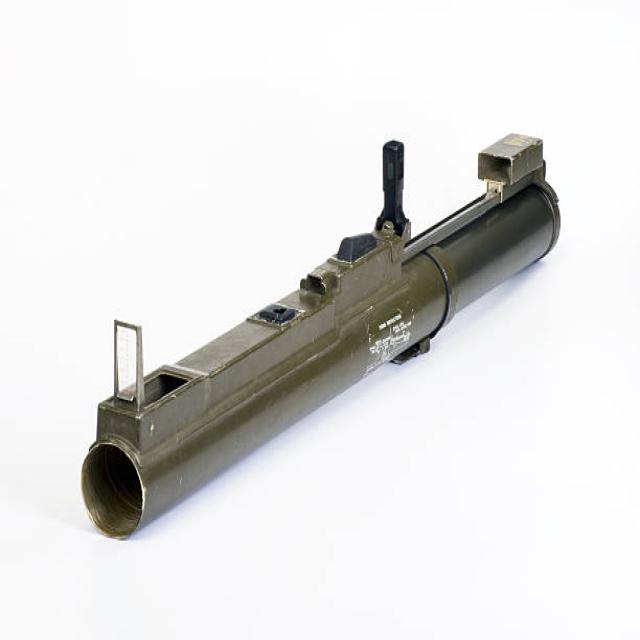bazooka: (76, 110, 566, 556)
